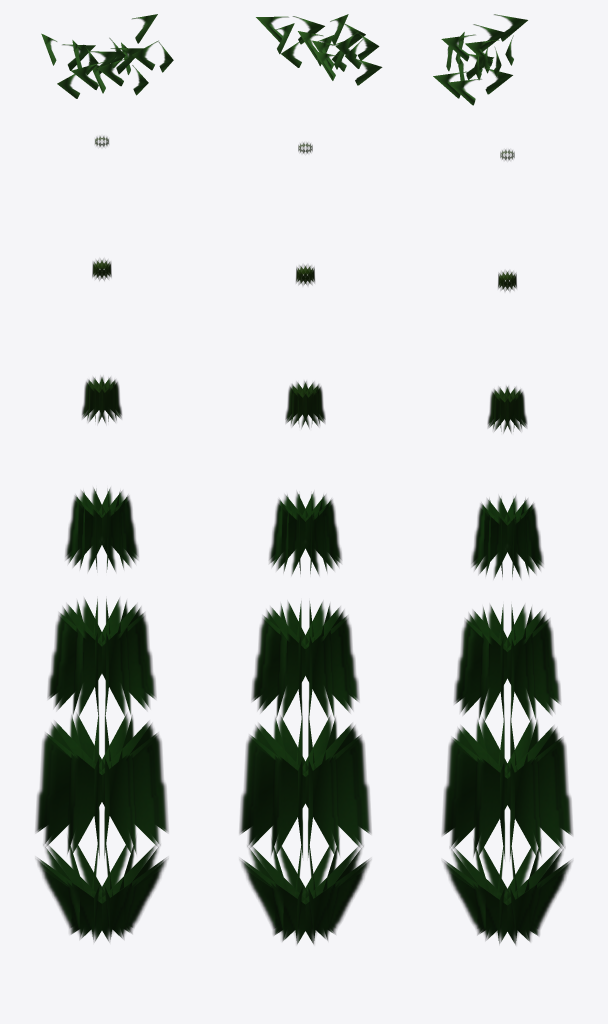
The model's file is Grass_LittleBluestem.glb.
3 renders of one model, left to right at view 1: azimuth 30°, elevation 25°; view 2: azimuth 150°, elevation 25°; view 3: azimuth 270°, elevation 25°, orthographic.
Visible parts, largest first — view 1: Grass_LittleBluestem; view 2: Grass_LittleBluestem; view 3: Grass_LittleBluestem.
Part boxes in pixels (box(x1,y1,x2,y2)): Grass_LittleBluestem: box(35, 14, 173, 941); Grass_LittleBluestem: box(239, 14, 382, 944); Grass_LittleBluestem: box(433, 14, 572, 944).
Bounding box in the file's own units: 0.16 × 0.9587 × 0.16.
1 material, 1 textured.
